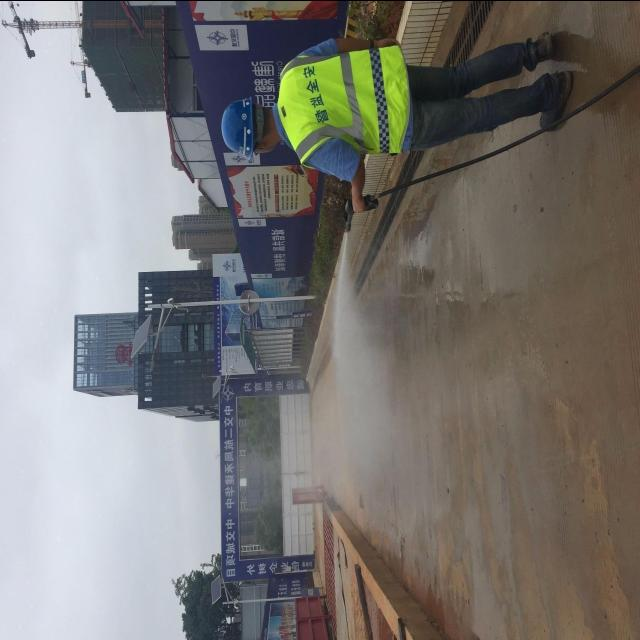helmet: (220, 95, 271, 169)
jacket: (274, 44, 414, 164)
